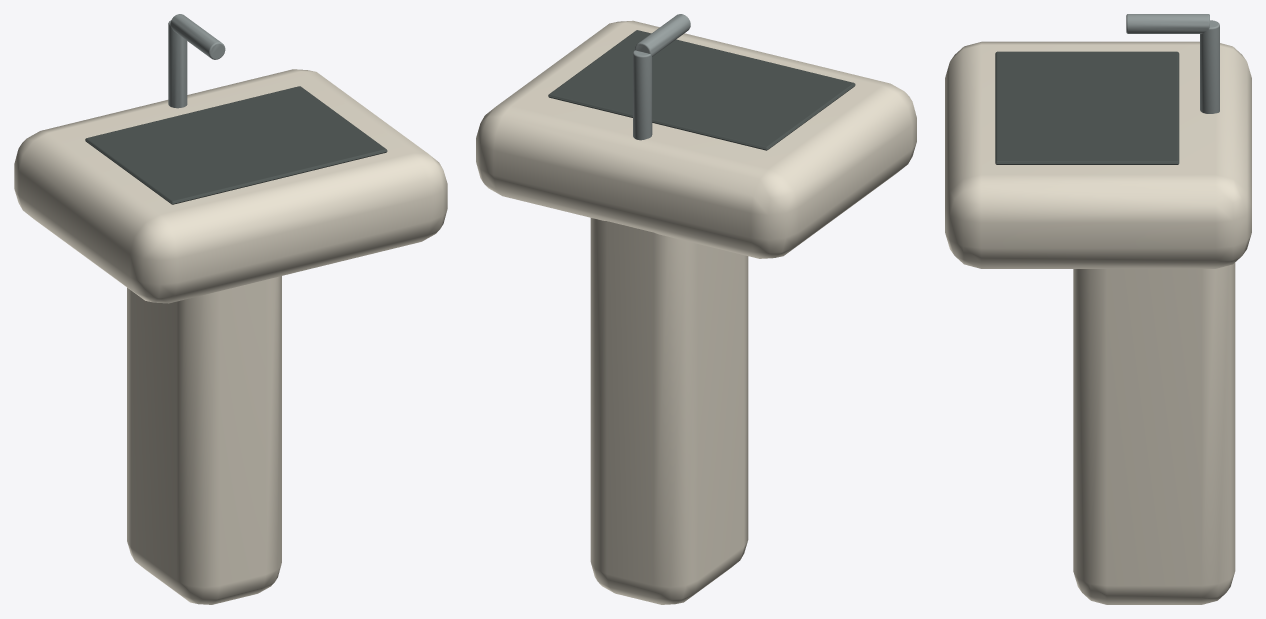
File: H_Sink.fbx
3 views of the same model, side by side, from view 1: azimuth 30°, elevation 25°; view 2: azimuth 150°, elevation 25°; view 3: azimuth 270°, elevation 25° (orthographic). The views are drawn at different scales.
Parts seen in each view (by area): view 1: H_Sink; view 2: H_Sink; view 3: H_Sink.
Part boxes in pixels (x1=…): H_Sink: x1=14, y1=14, x2=447, y2=604; H_Sink: x1=476, y1=14, x2=916, y2=604; H_Sink: x1=945, y1=14, x2=1251, y2=604.
Size of the model in its own units: 0.68 by 1.14 by 0.55.
